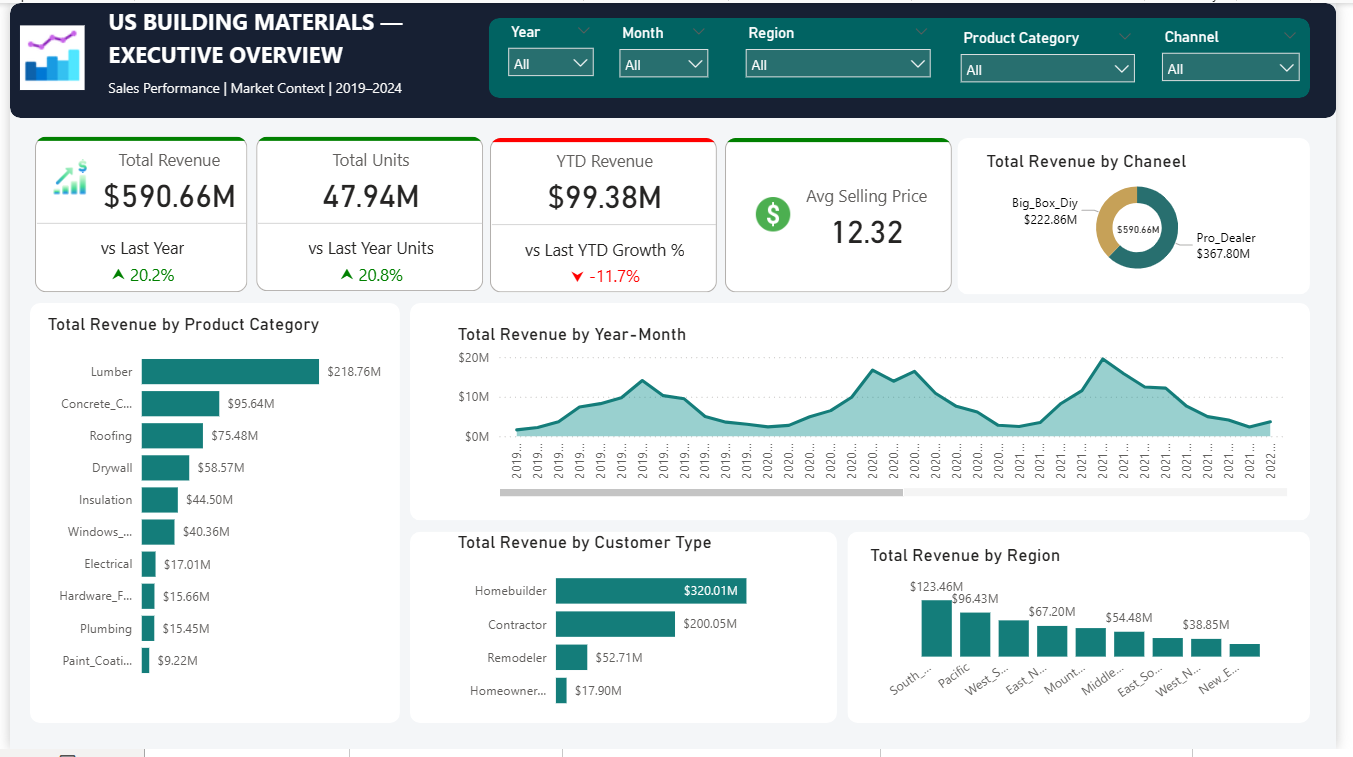

The page's visual inventory and layout, read from the dashboard file:
{"tool":"powerbi","page":{"name":"EXECUTIVE OVERVIEW  ","canvas":[1280,720],"ordinal":0},"visuals":[{"type":"shape","box":[0,0,1280,111],"z":0},{"type":"shape","box":[914.5,130.3,340.2,150.8],"z":1000},{"type":"shape","box":[808.3,509.9,446.3,184.6],"z":2000},{"type":"shape","box":[386.1,289.5,868.6,209.9],"z":3000},{"type":"shape","box":[19.3,289.5,357.1,405.4],"z":4000},{"type":"shape","box":[462.1,14.5,792.6,77.2],"z":5000,"group":"g1"},{"type":"shape","box":[386.4,509.9,412.1,184.6],"z":5000},{"type":"cardVisual","fields":{"Data":["_Measures.Average Selling Price"]},"box":[685.3,125.5,229.2,159.3],"z":6000},{"type":"cardVisual","fields":{"Data":["_Measures.YTD Revenue"]},"box":[458.4,125.5,229.2,159.3],"z":7000},{"type":"lineChart","fields":{"Category":["DimDate.Year-Month"],"Y":["_Measures.Total Revenue"]},"box":[427.1,308.8,810.7,172.5],"z":8000},{"type":"barChart","fields":{"Category":["DimProduct.Product Category"],"Y":["_Measures.Total Revenue"]},"box":[31.4,299.2,333,365.6],"z":9000},{"type":"clusteredColumnChart","fields":{"Category":["DimRegion.Region"],"Y":["_Measures.Total Revenue"]},"box":[825.2,522.4,401.7,161.7],"z":10000},{"type":"donutChart","fields":{"Category":["DimChannel.Chaneel"],"Y":["_Measures.Total Revenue"]},"box":[937.5,142.5,301.2,130],"z":11000},{"type":"barChart","fields":{"Category":["DimCustomer.Customer Type"],"Y":["_Measures.Total Revenue"]},"box":[427.1,510.3,346.2,184.6],"z":12000},{"type":"textbox","box":[72.4,0,354.7,105],"z":13000},{"type":"cardVisual","fields":{"Data":["_Measures.Total Revenue"]},"box":[19.3,124.3,216,160.5],"z":14000},{"type":"cardVisual","fields":{"Data":["_Measures.Total Units"]},"box":[232.8,124.3,229.2,159.3],"z":15000},{"type":"slicer","fields":{"Values":["DimDate.Year"]},"box":[470.5,14.5,102.5,77.2],"z":16000,"group":"g1"},{"type":"card","fields":{"Values":["_Measures.Total Revenue"]},"box":[1062.5,195,52.5,51.2],"z":16000},{"type":"group","id":"g1","title":"Group 1","box":[462.1,14.5,792.6,78.4],"z":17000},{"type":"image","box":[4.8,0,72.4,105],"z":18000},{"type":"slicer","fields":{"Values":["DimDate.Month Short"]},"box":[577.9,15.7,106.2,77.2],"z":18000,"group":"g1"},{"type":"slicer","fields":{"Values":["DimRegion.Region"]},"box":[699.8,15.7,199.1,77.2],"z":19000,"group":"g1"},{"type":"slicer","fields":{"Values":["DimProduct.Product Category"]},"box":[907.3,20.5,188.2,67.6],"z":20000,"group":"g1"},{"type":"slicer","fields":{"Values":["DimChannel.Chaneel"]},"box":[1101.5,19.3,153.2,67.6],"z":21000,"group":"g1"}]}

Visuals, with their boxes in screenshot pixels (x1, y1, x2, y2), scaled from the page's 1280x720 canvas onto the 1353x757 screenshot:
shape: (left=0, top=0, right=1352, bottom=117)
shape: (left=967, top=137, right=1326, bottom=296)
shape: (left=854, top=536, right=1326, bottom=730)
shape: (left=408, top=304, right=1326, bottom=525)
shape: (left=20, top=304, right=398, bottom=731)
shape: (left=488, top=15, right=1326, bottom=96)
shape: (left=408, top=536, right=844, bottom=730)
cardVisual - _Measures.Average Selling Price: (left=724, top=132, right=967, bottom=299)
cardVisual - _Measures.YTD Revenue: (left=485, top=132, right=727, bottom=299)
lineChart - DimDate.Year-Month x _Measures.Total Revenue: (left=451, top=325, right=1308, bottom=506)
barChart - DimProduct.Product Category x _Measures.Total Revenue: (left=33, top=315, right=385, bottom=699)
clusteredColumnChart - DimRegion.Region x _Measures.Total Revenue: (left=872, top=549, right=1297, bottom=719)
donutChart - DimChannel.Chaneel x _Measures.Total Revenue: (left=991, top=150, right=1309, bottom=287)
barChart - DimCustomer.Customer Type x _Measures.Total Revenue: (left=451, top=537, right=817, bottom=731)
textbox: (left=77, top=0, right=451, bottom=110)
cardVisual - _Measures.Total Revenue: (left=20, top=131, right=249, bottom=299)
cardVisual - _Measures.Total Units: (left=246, top=131, right=488, bottom=298)
slicer - DimDate.Year: (left=497, top=15, right=606, bottom=96)
card - _Measures.Total Revenue: (left=1123, top=205, right=1179, bottom=259)
"Group 1" group: (left=488, top=15, right=1326, bottom=98)
image: (left=5, top=0, right=82, bottom=110)
slicer - DimDate.Month Short: (left=611, top=17, right=723, bottom=98)
slicer - DimRegion.Region: (left=740, top=17, right=950, bottom=98)
slicer - DimProduct.Product Category: (left=959, top=22, right=1158, bottom=93)
slicer - DimChannel.Chaneel: (left=1164, top=20, right=1326, bottom=91)
